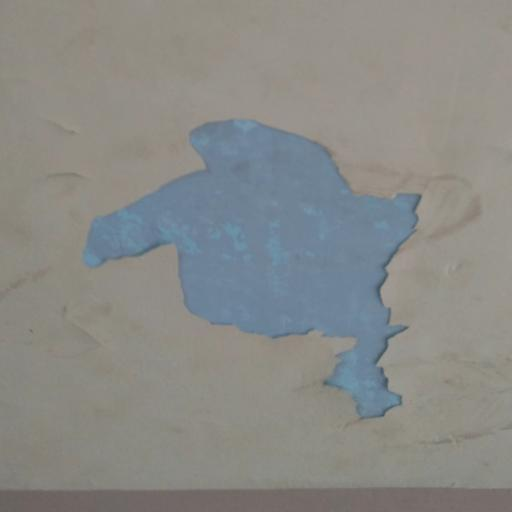peeling: (80, 111, 417, 427)
